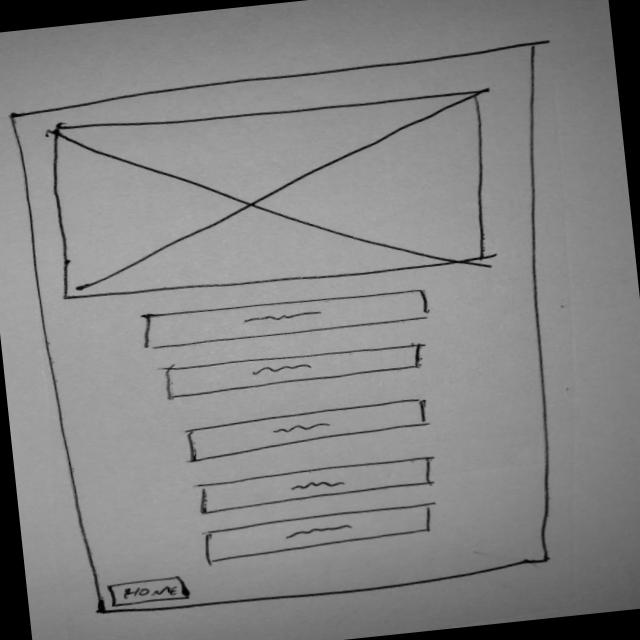button: (106, 570, 196, 610)
container: (0, 25, 612, 631)
image: (31, 75, 521, 316)
input: (136, 280, 438, 354), (168, 395, 442, 465), (150, 336, 438, 402), (184, 452, 451, 519), (198, 501, 449, 566)
